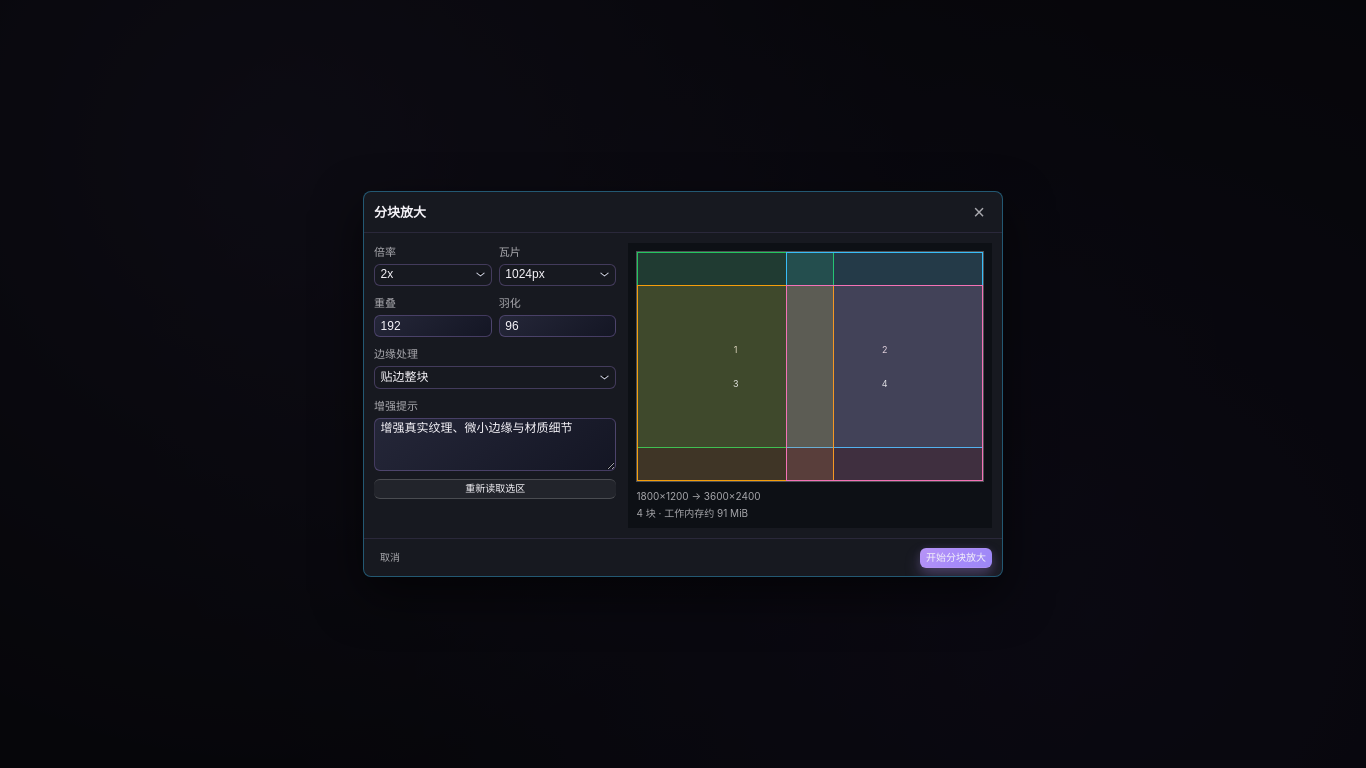
it: TiledUpscaleDialog › rejects a 1024px 4x tile over the memory budget and accepts 512px
This screenshot has width=1366, height=768.
Select "4x" in the dropdown labelled "倍率": [433, 275] box [374, 264, 492, 286]
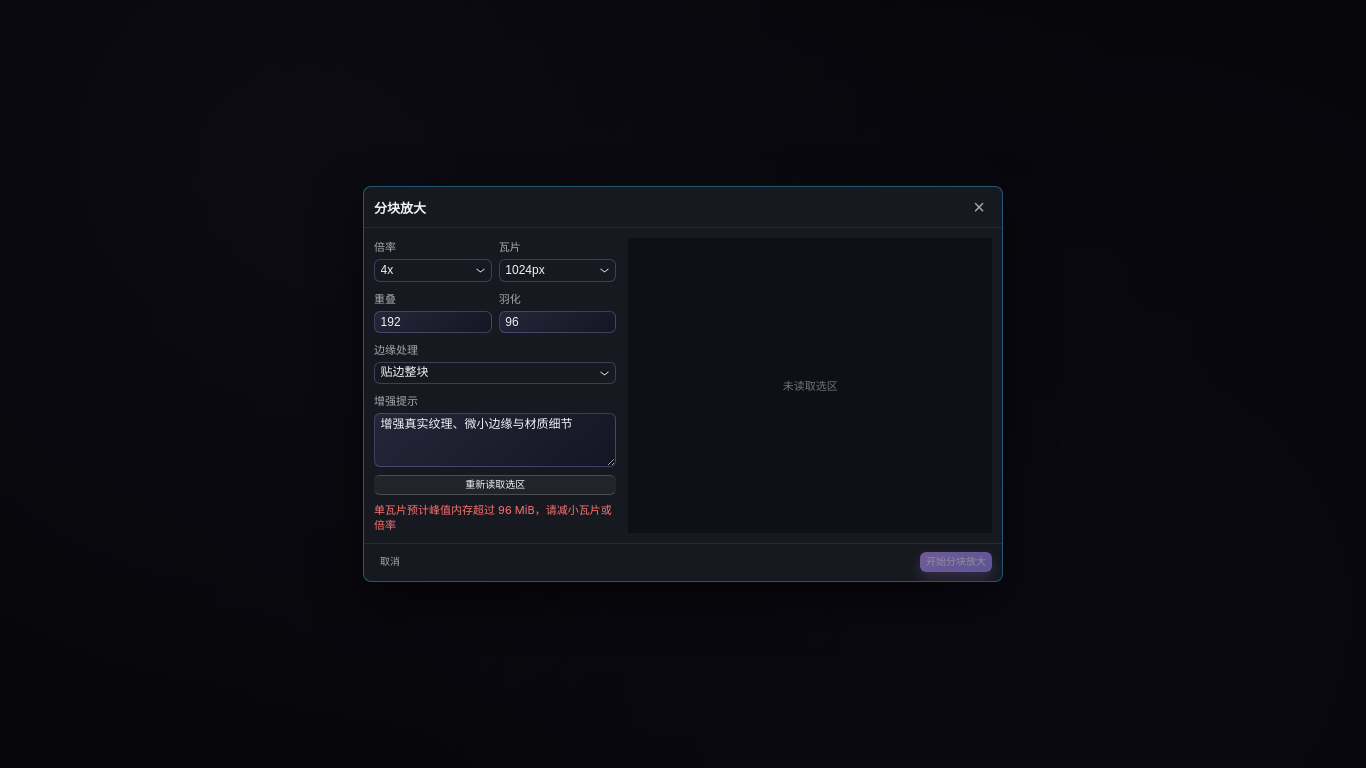
Result: the message "单瓦片预计峰值内存超过 96 MiB，请减小瓦片或倍率" is shown at [374, 503, 616, 533]
Result: the button "开始分块放大" is disabled at [920, 552, 992, 572]
Select "512px" in the dropdown labelled "瓦片": [558, 270] box [499, 259, 616, 282]
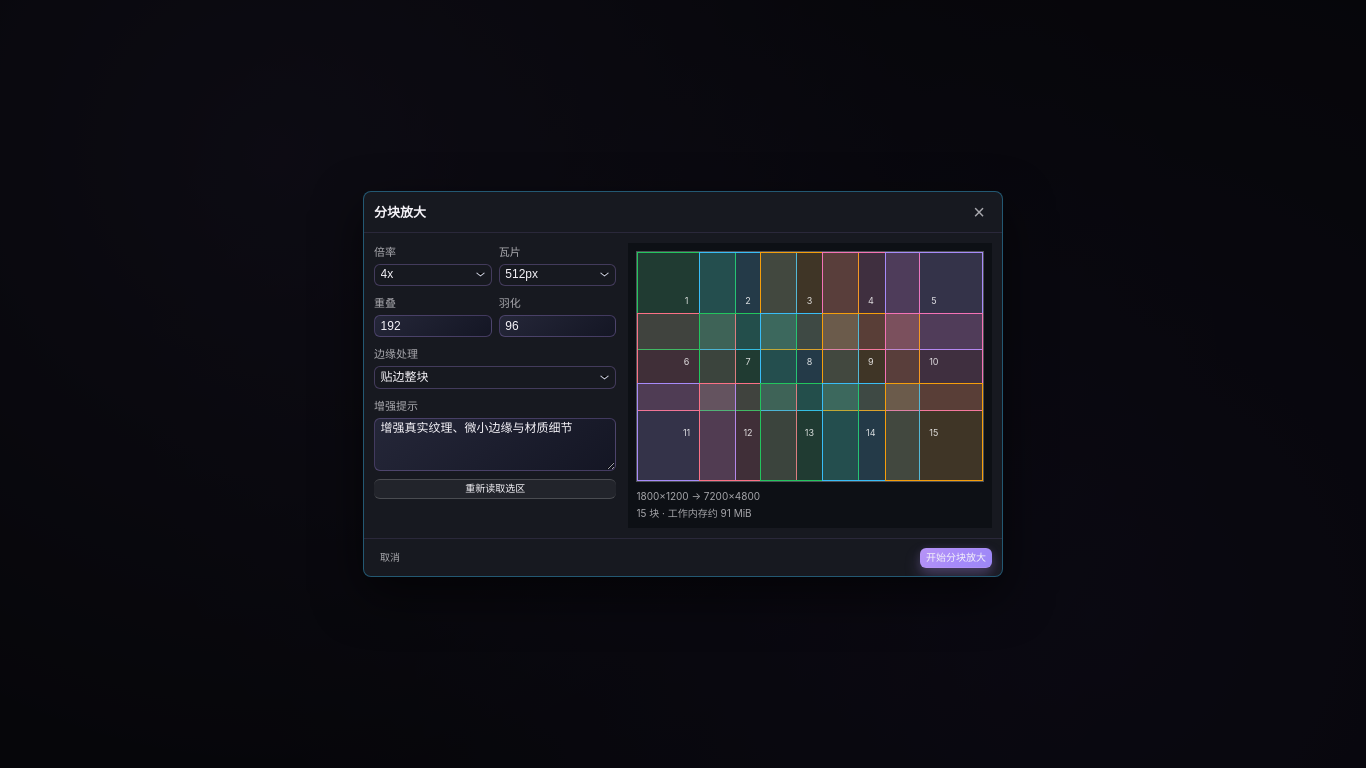
Result: the message "单瓦片预计峰值内存超过 96 MiB，请减小瓦片或倍率" is gone
Result: the button "开始分块放大" is enabled at [920, 548, 992, 568]
